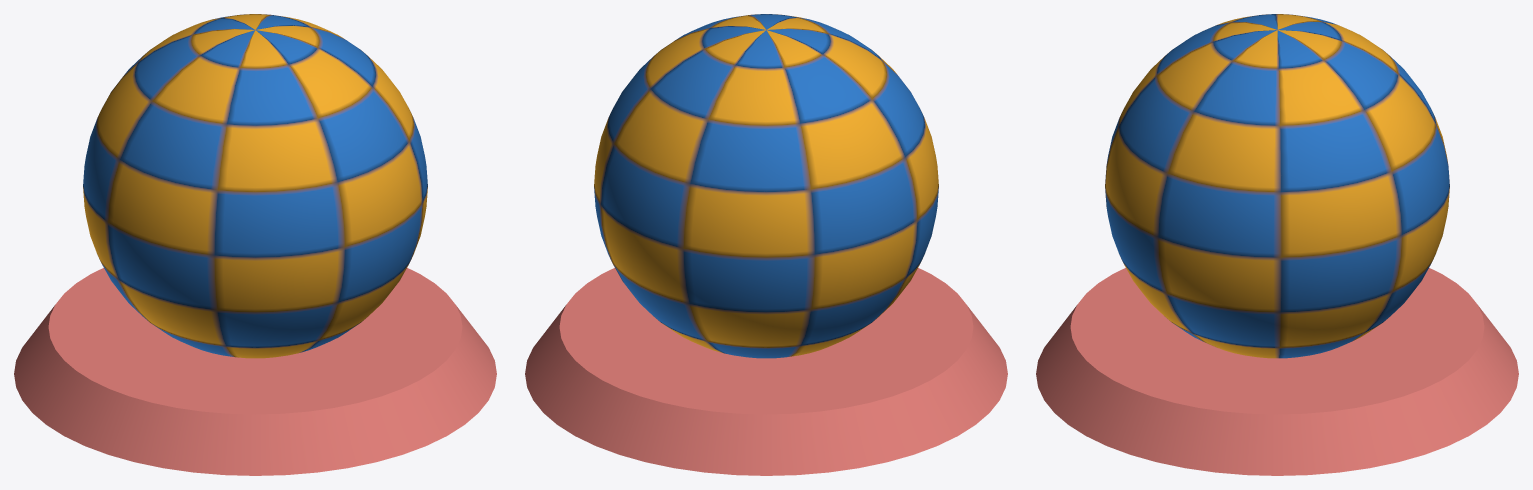
File: sample-meshopt.glb
3 views of the same model, side by side, from view 1: azimuth 30°, elevation 25°; view 2: azimuth 150°, elevation 25°; view 3: azimuth 270°, elevation 25° (orthographic).
Parts seen in each view (by area): view 1: textured sphere, metal base; view 2: textured sphere, metal base; view 3: textured sphere, metal base.
Part boxes in pixels (x1,y1,x2,y2): textured sphere: (83, 14, 427, 358); metal base: (14, 268, 496, 475); textured sphere: (594, 14, 938, 358); metal base: (525, 268, 1007, 475); textured sphere: (1105, 14, 1449, 358); metal base: (1036, 268, 1518, 475).
Bounding box in the file's own units: 2.8 × 2.2 × 2.8.
2 materials, 1 textured.
